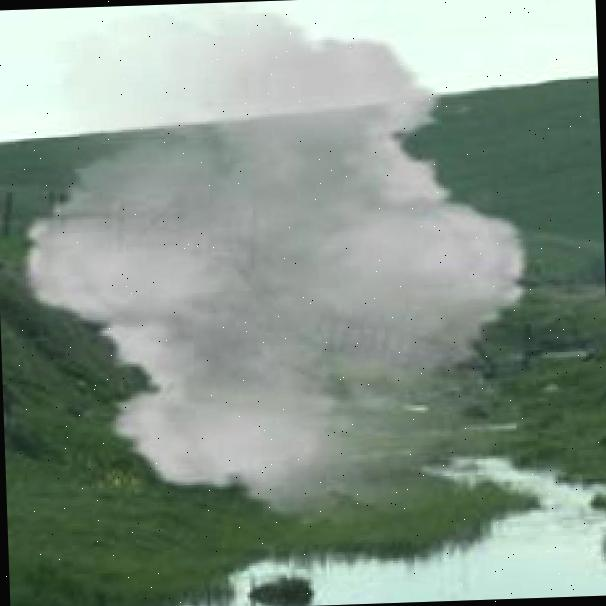smoke: (0, 0, 559, 536)
